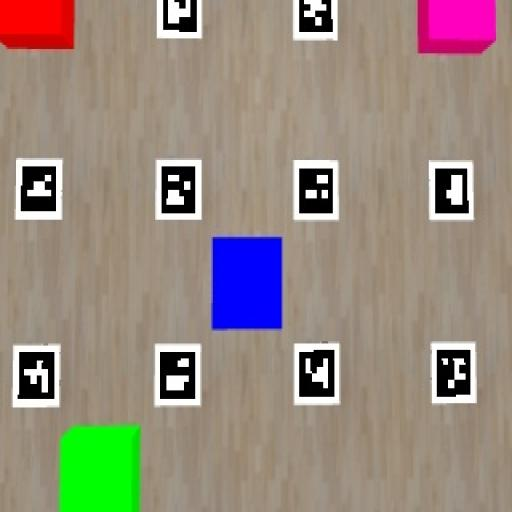car: (60, 425, 140, 511), (212, 237, 283, 330), (418, 0, 495, 55)
fire: (0, 0, 75, 49)
